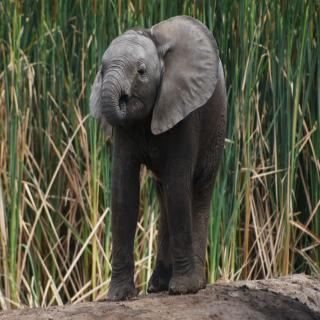Elephant: (83, 15, 232, 310)
